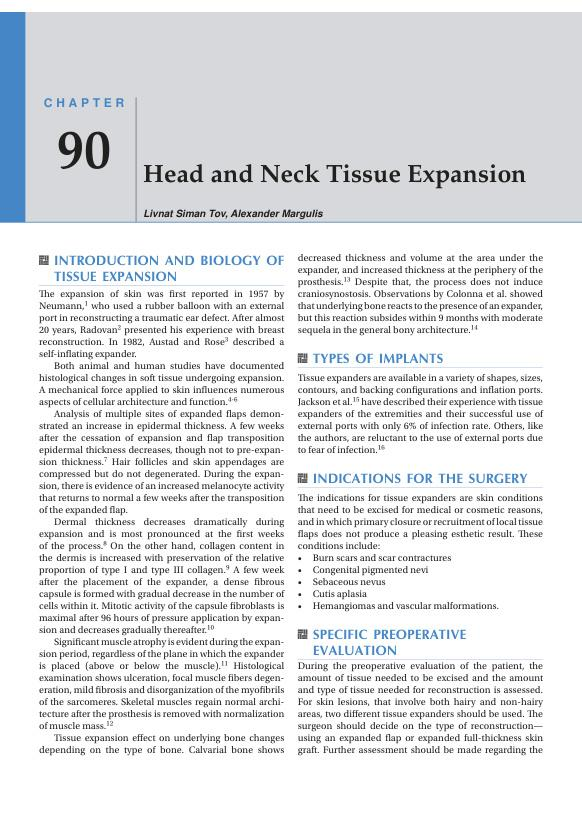chapter-heading: (142, 162, 528, 189)
list: (296, 553, 500, 613)
section-heading: (52, 253, 285, 283), (311, 627, 468, 657), (311, 471, 529, 485), (311, 351, 445, 365)
text: (37, 288, 285, 758), (297, 661, 544, 757), (296, 251, 545, 338), (297, 372, 544, 455), (296, 492, 545, 551)
